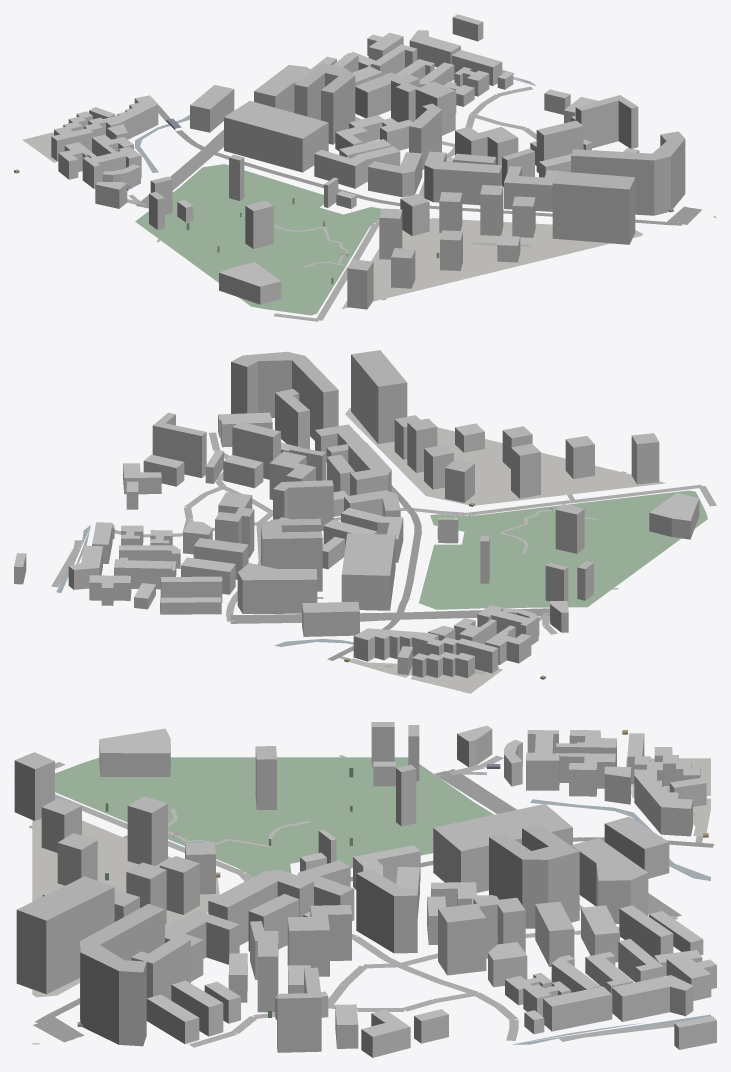
The picture shows the model from 3 angles, top to bottom: view 1: azimuth 30°, elevation 25°; view 2: azimuth 150°, elevation 25°; view 3: azimuth 270°, elevation 25°; orthographic projection. The views are drawn at different scales.
Bounding box in the file's own units: 569 × 60.89 × 518.
